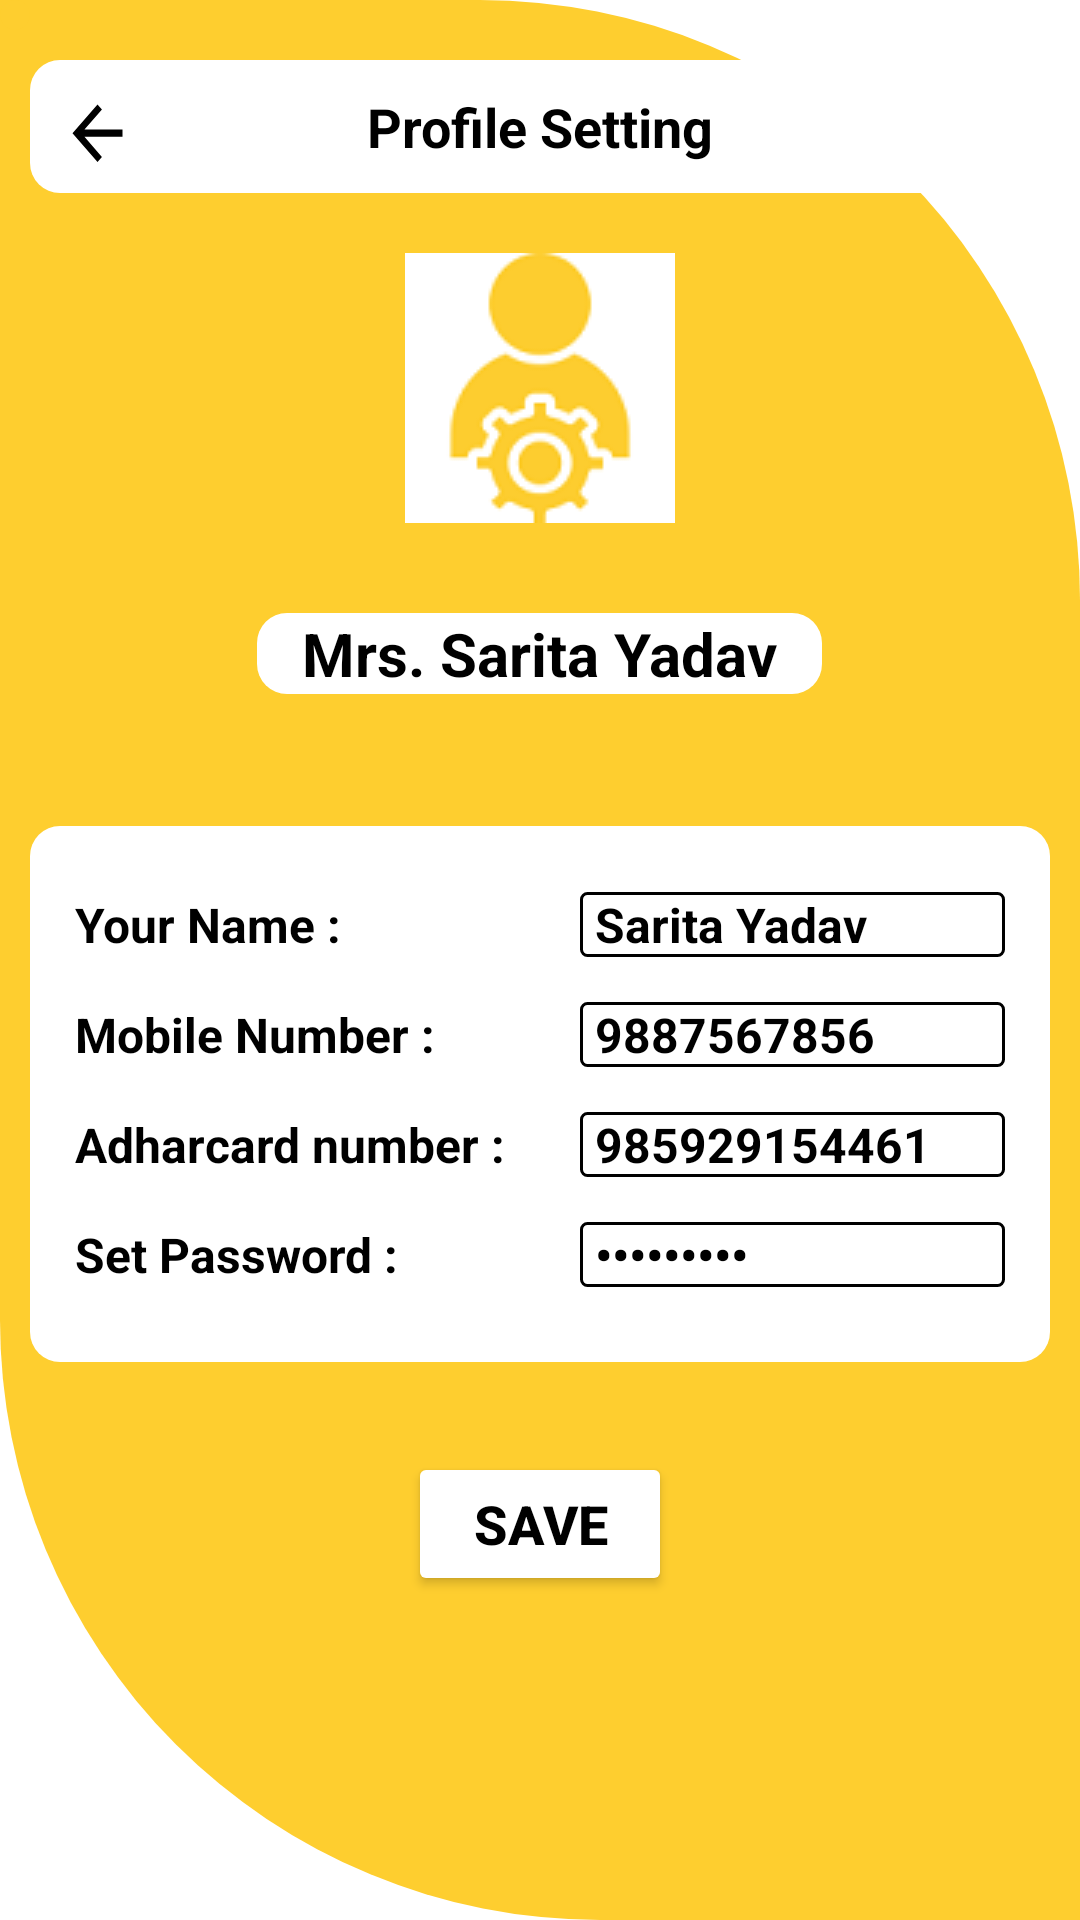

Where icons sit on this 1080 × 1920 app screen, as {"x1": x1, "y1": y1, "x2": x2, "y2": y2}:
arrow: {"x1": 72, "y1": 104, "x2": 123, "y2": 162}
settings: {"x1": 405, "y1": 253, "x2": 675, "y2": 523}
